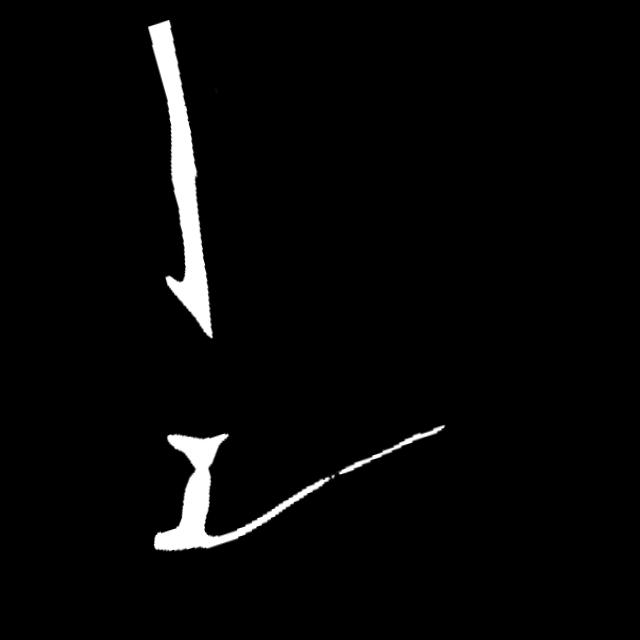inf: (319, 469, 346, 493)
